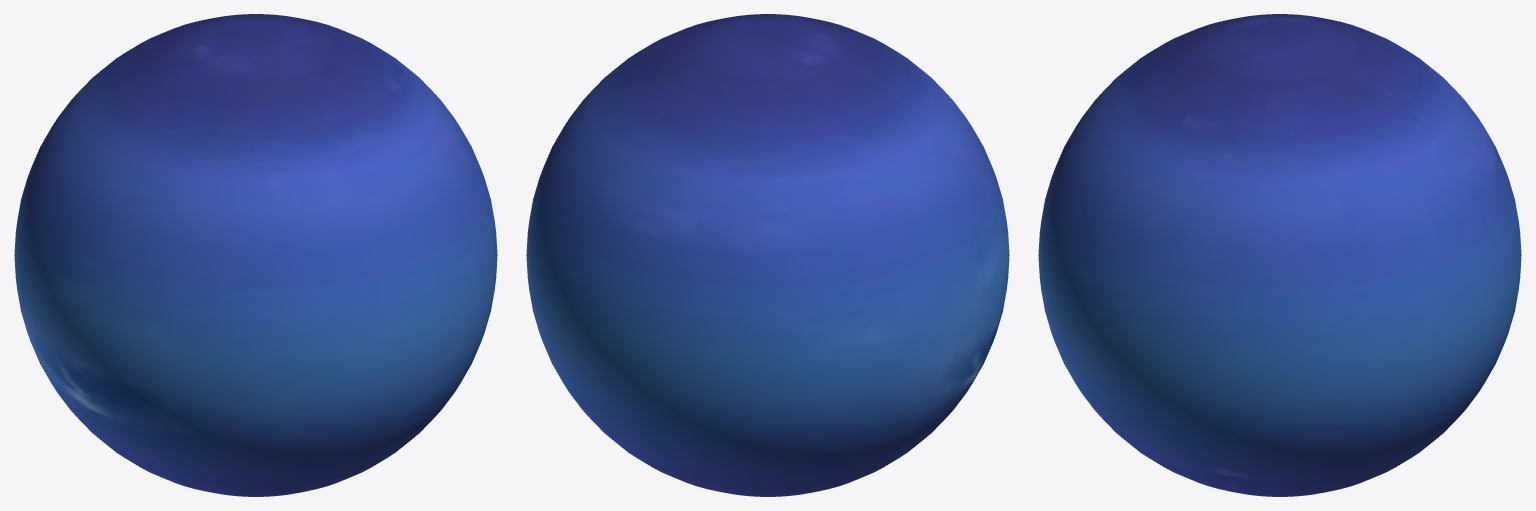
The model's file is uranus.glb.
The picture shows the model from 3 angles, left to right: view 1: azimuth 30°, elevation 25°; view 2: azimuth 150°, elevation 25°; view 3: azimuth 270°, elevation 25°; orthographic projection.
Parts seen in each view (by area): view 1: Esfera; view 2: Esfera; view 3: Esfera.
Boxes of the visible parts, x1,y1,x2,y2 form: Esfera: (14, 14, 497, 496); Esfera: (526, 14, 1009, 496); Esfera: (1038, 14, 1521, 496).
Size of the model in its own units: 2 by 2 by 2.
1 material, 1 textured.
